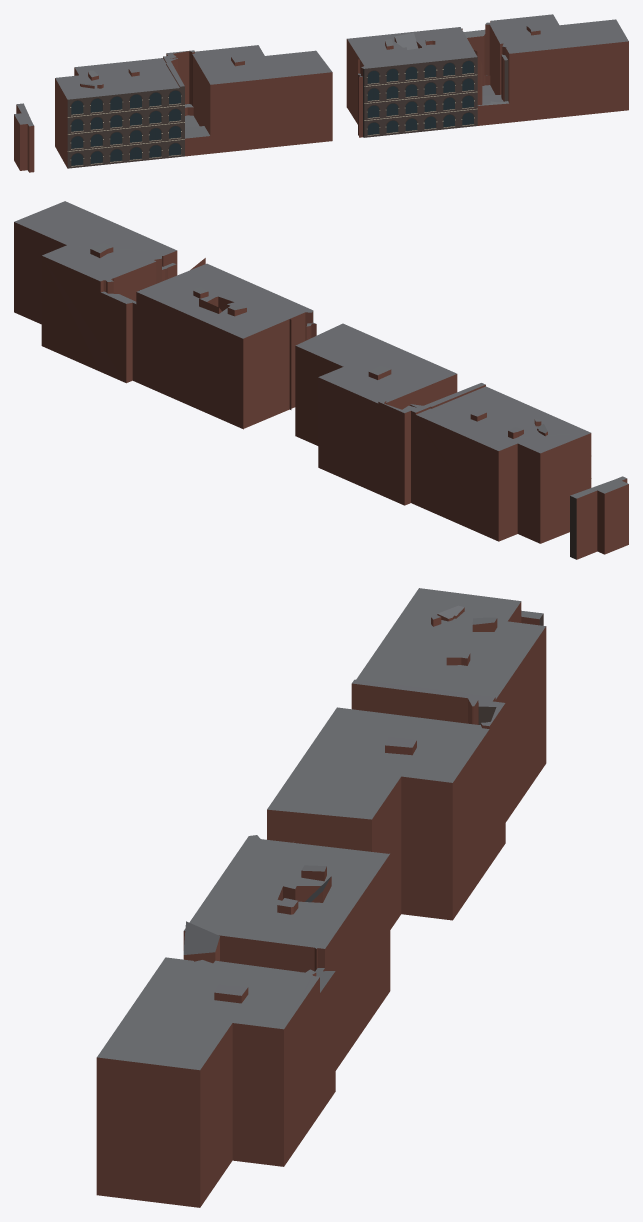
Rendered from recipe-large-oostelijke-handelskade-749-239388.glb.
The picture shows the model from 3 angles, top to bottom: view 1: azimuth 30°, elevation 25°; view 2: azimuth 150°, elevation 25°; view 3: azimuth 270°, elevation 25°; orthographic projection. The views are drawn at different scales.
Parts seen in each view (by area): view 1: oostelijke-handelskade-749-239388; view 2: oostelijke-handelskade-749-239388; view 3: oostelijke-handelskade-749-239388.
Boxes of the visible parts, x1,y1,x2,y2 form: oostelijke-handelskade-749-239388: (14,14,628,172); oostelijke-handelskade-749-239388: (14,201,628,559); oostelijke-handelskade-749-239388: (96,588,546,1207).
Size of the model in its own units: 191 by 25.72 by 70.03.
